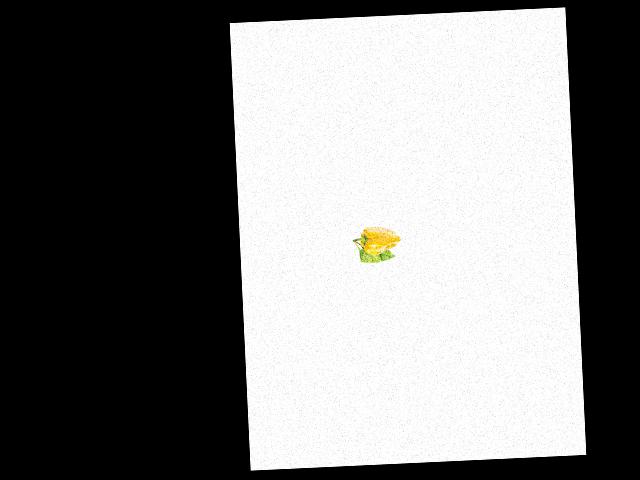bell_pepper: (350, 223, 402, 256)
